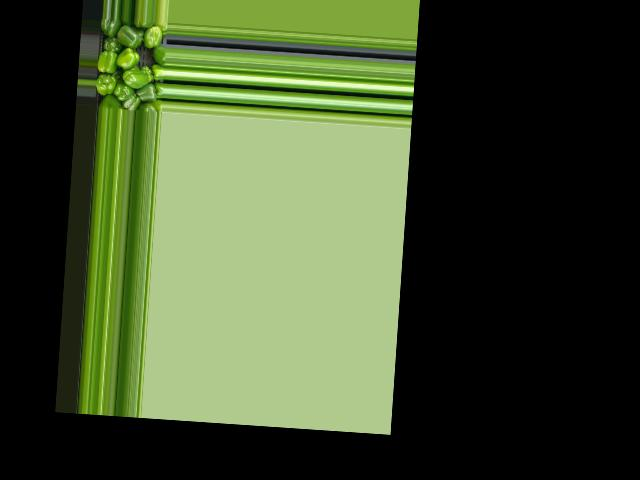bell_pepper: (103, 94, 123, 110)
